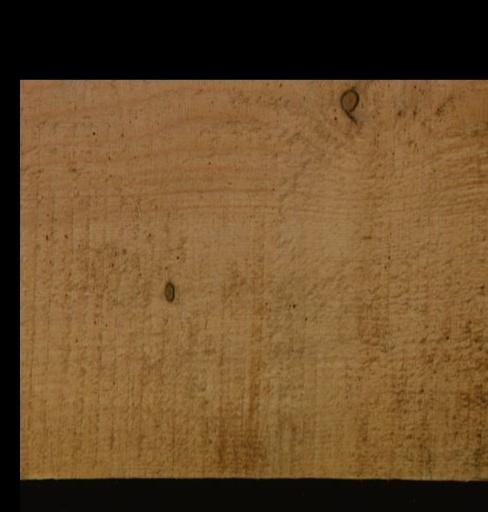dry_knot: (161, 279, 174, 303)
